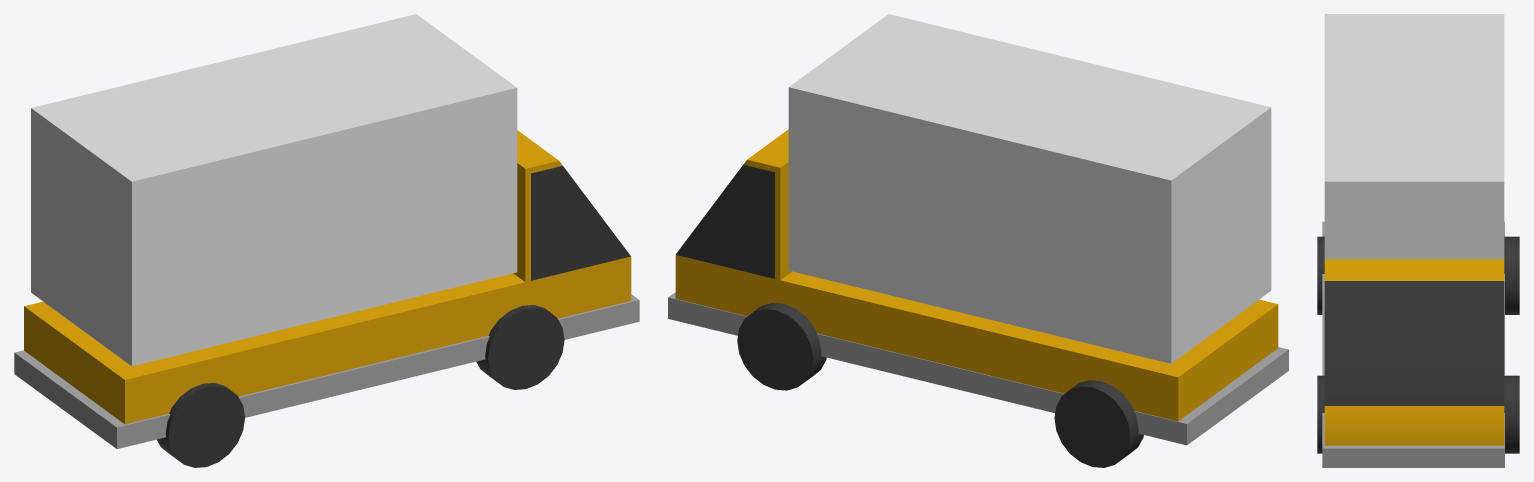
File: Environment_Tucksan.fbx
The picture shows the model from 3 angles, left to right: view 1: azimuth 30°, elevation 25°; view 2: azimuth 150°, elevation 25°; view 3: azimuth 270°, elevation 25°; orthographic projection. The views are drawn at different scales.
Visible parts, largest first — view 1: Tucksan; view 2: Tucksan; view 3: Tucksan.
Part boxes in pixels (left/top/right/bottom): Tucksan: left=14, top=14, right=639, bottom=467; Tucksan: left=668, top=14, right=1288, bottom=467; Tucksan: left=1317, top=14, right=1519, bottom=467.
Bounding box in the file's own units: 6 × 3.28 × 2.26.
